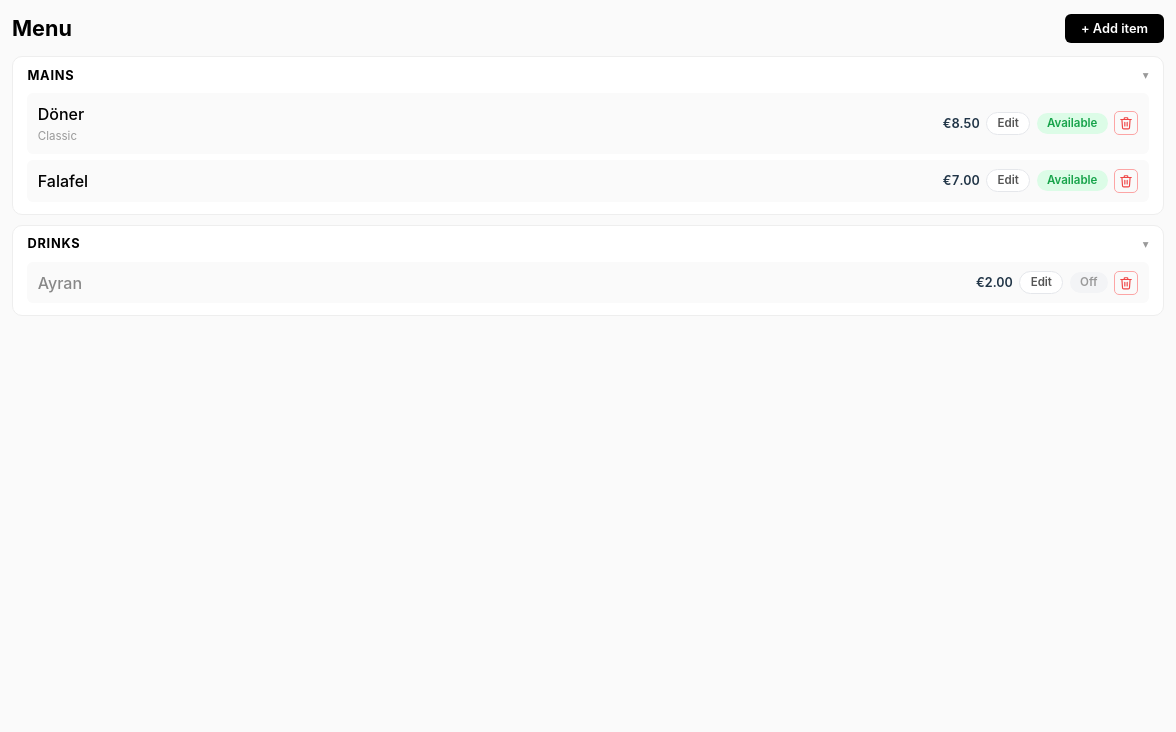
Test case: MenuPage › expands the target category after adding an item
This screenshot has width=1176, height=732.
Click the button with aria-label "Collapse Drinks" at (54, 244), box [13,226,1163,262]
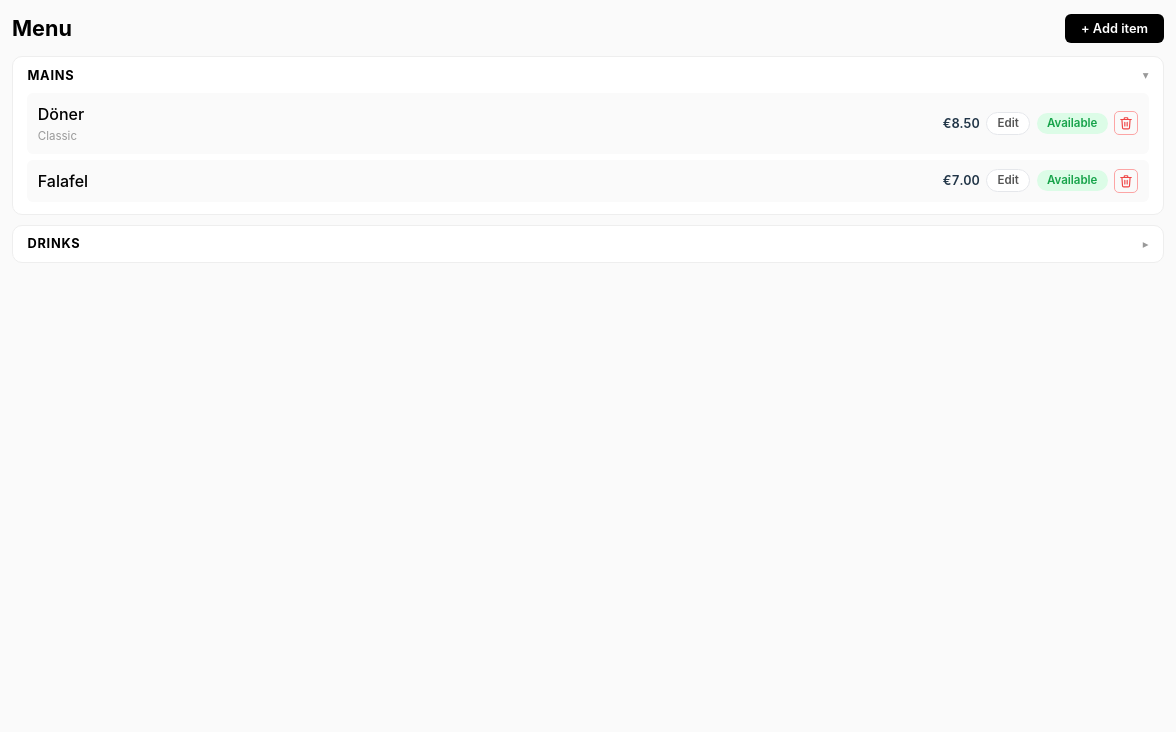
Check: the text "Ayran" is gone
Click the button "+ Add item" at (1114, 28), box [1065,14,1164,43]
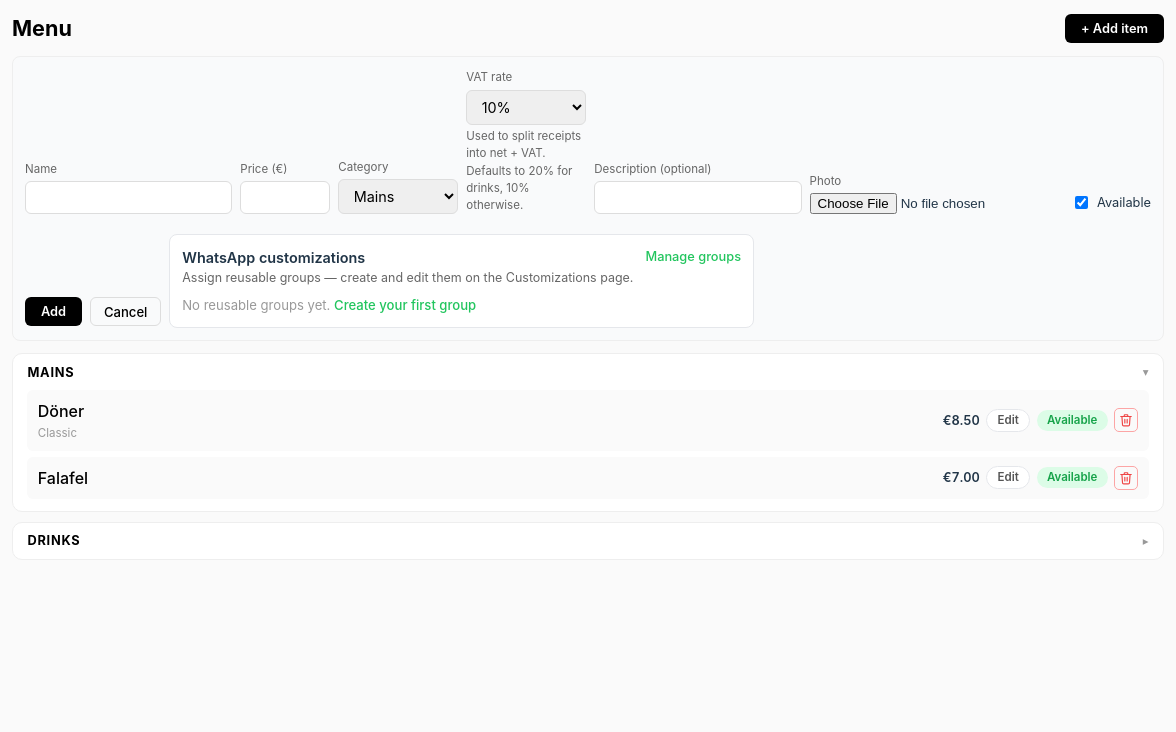
Type "Cola" into the field below "Name" at (129, 198), box [25,181,232,214]
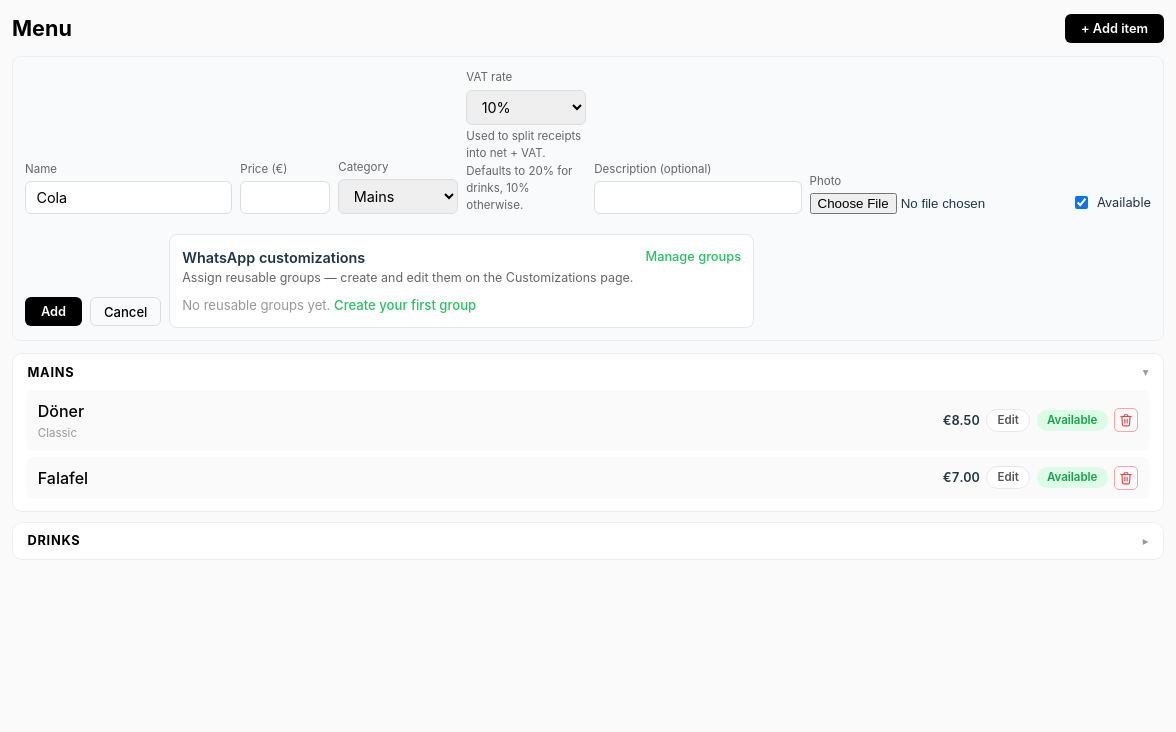
Type "2.5" into the number field at (285, 198), box [240,181,330,214]
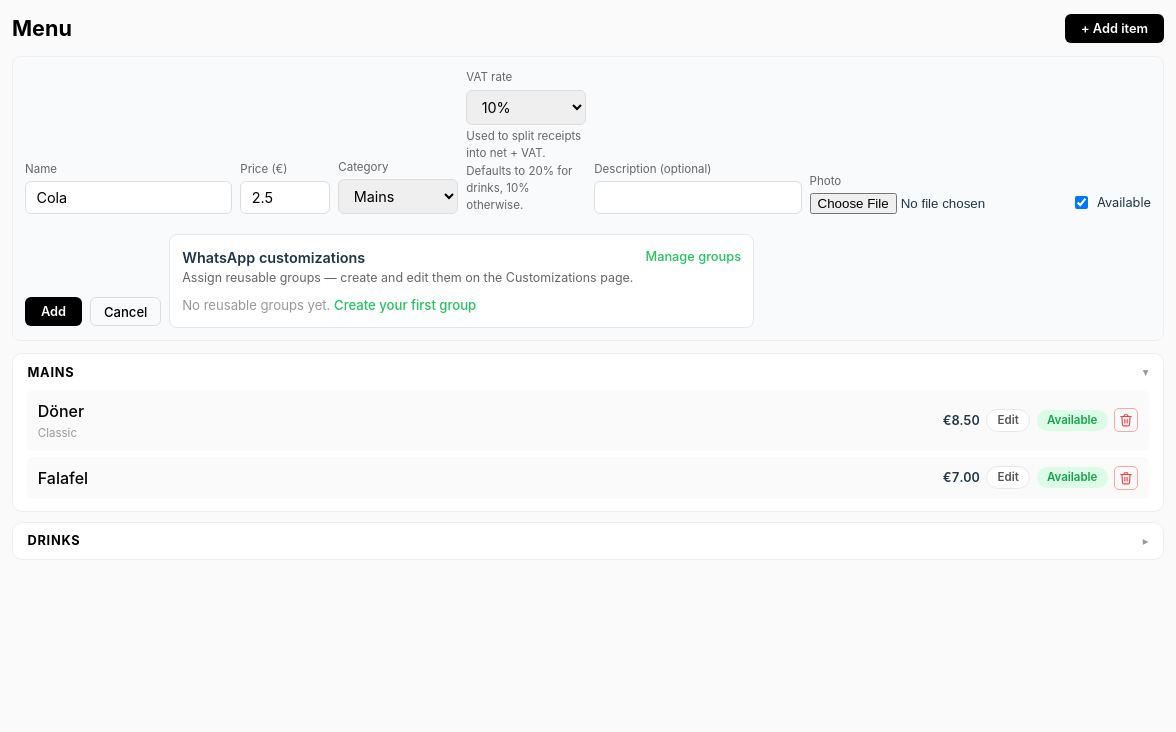
Select "Drinks" in the dropdown below "Category" at (398, 197), box [338,179,458,214]
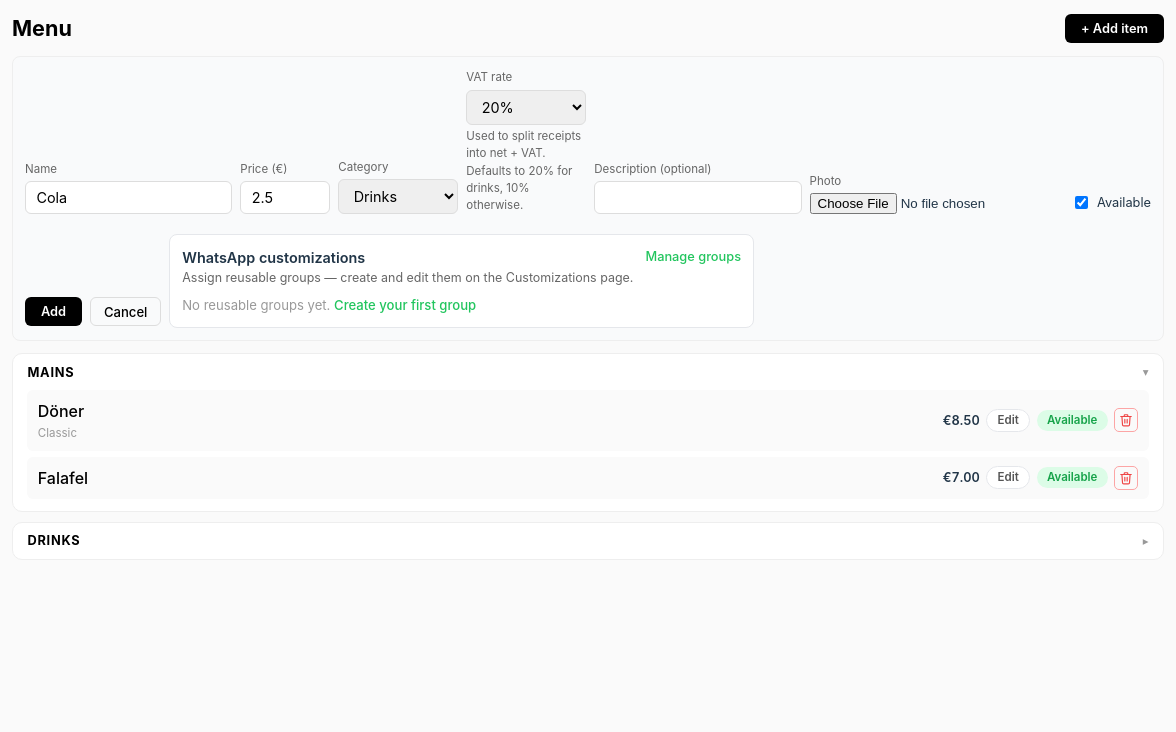
Click the button "Add" at (54, 312), box [25,297,82,326]
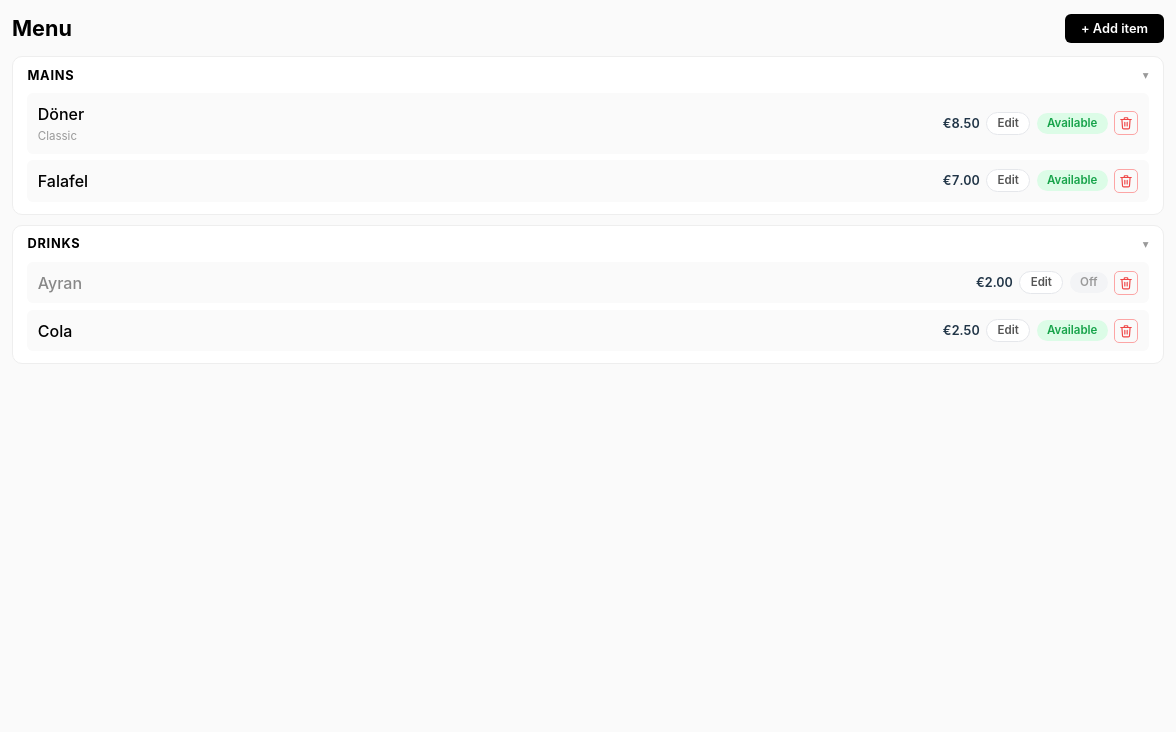
Check: the text "Cola" is shown, box [38,321,72,341]
Check: the button with aria-label "Collapse Drinks" is expanded, box [13,226,1163,262]
